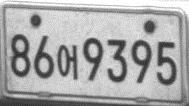3: (106, 38, 127, 84)
5: (156, 41, 178, 85)
6: (33, 34, 55, 79)
8: (10, 33, 31, 77)
9: (129, 39, 152, 83), (82, 37, 103, 82)
어: (56, 43, 78, 81)
